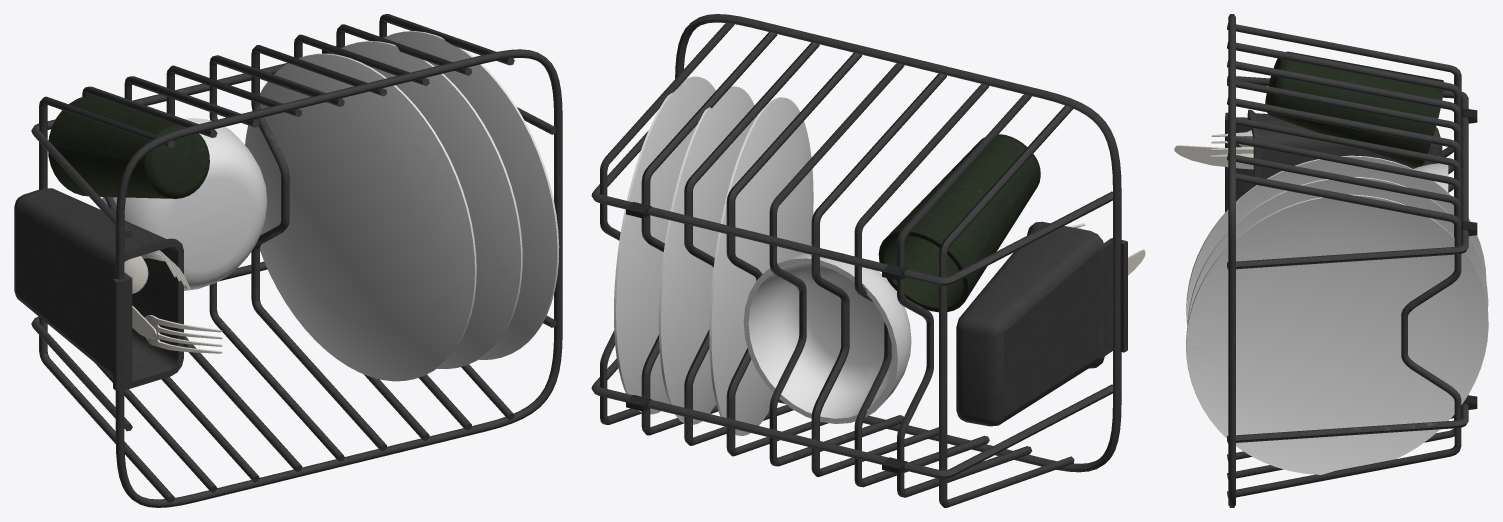
Rendered from dish_rack.obj.
The picture shows the model from 3 angles, left to right: view 1: azimuth 30°, elevation 25°; view 2: azimuth 150°, elevation 25°; view 3: azimuth 270°, elevation 25°; orthographic projection. The views are drawn at different scales.
Parts seen in each view (by area): view 1: geometry_9, geometry_6, geometry_7, geometry_8, geometry_5, geometry_4, geometry_1, geometry_3; view 2: geometry_9, geometry_5, geometry_6, geometry_7, geometry_4, geometry_8; view 3: geometry_8, geometry_9, geometry_4, geometry_6, geometry_7, geometry_2, geometry_0, geometry_5.
Part boxes in pixels (bbox=[...]): geometry_9: bbox=[14, 14, 562, 507]; geometry_6: bbox=[245, 53, 476, 381]; geometry_7: bbox=[332, 41, 522, 369]; geometry_8: bbox=[383, 31, 559, 359]; geometry_5: bbox=[102, 118, 267, 290]; geometry_4: bbox=[48, 95, 209, 198]; geometry_1: bbox=[144, 315, 222, 353]; geometry_3: bbox=[124, 256, 148, 293]; geometry_9: bbox=[591, 14, 1127, 507]; geometry_5: bbox=[743, 253, 911, 423]; geometry_6: bbox=[709, 97, 813, 435]; geometry_7: bbox=[658, 86, 757, 424]; geometry_4: bbox=[878, 134, 1040, 312]; geometry_8: bbox=[614, 76, 715, 414]; geometry_8: bbox=[1186, 194, 1488, 474]; geometry_9: bbox=[1225, 14, 1477, 507]; geometry_4: bbox=[1265, 51, 1443, 167]; geometry_6: bbox=[1186, 155, 1486, 325]; geometry_7: bbox=[1187, 177, 1488, 323]; geometry_2: bbox=[1174, 145, 1253, 169]; geometry_0: bbox=[1210, 132, 1253, 157]; geometry_5: bbox=[1413, 163, 1448, 192].
Bounding box in the file's own units: 0.42 × 0.3352 × 0.2829.
Materials: 1 (1 with a texture image).
